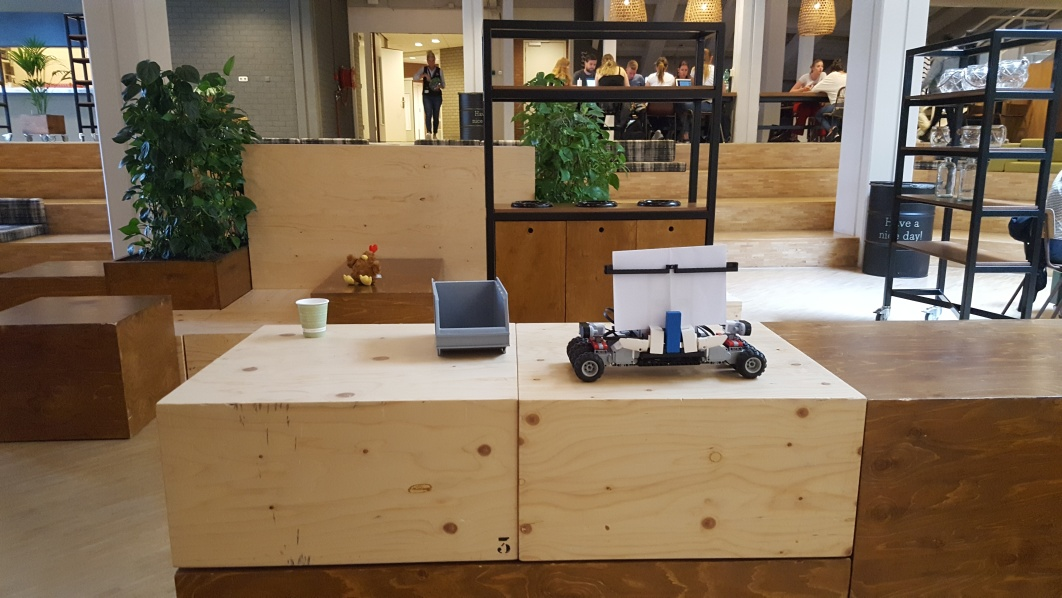beam: (663, 310, 683, 355)
chicken: (345, 243, 382, 289)
cup: (296, 296, 330, 337)
tray: (429, 276, 516, 356)
